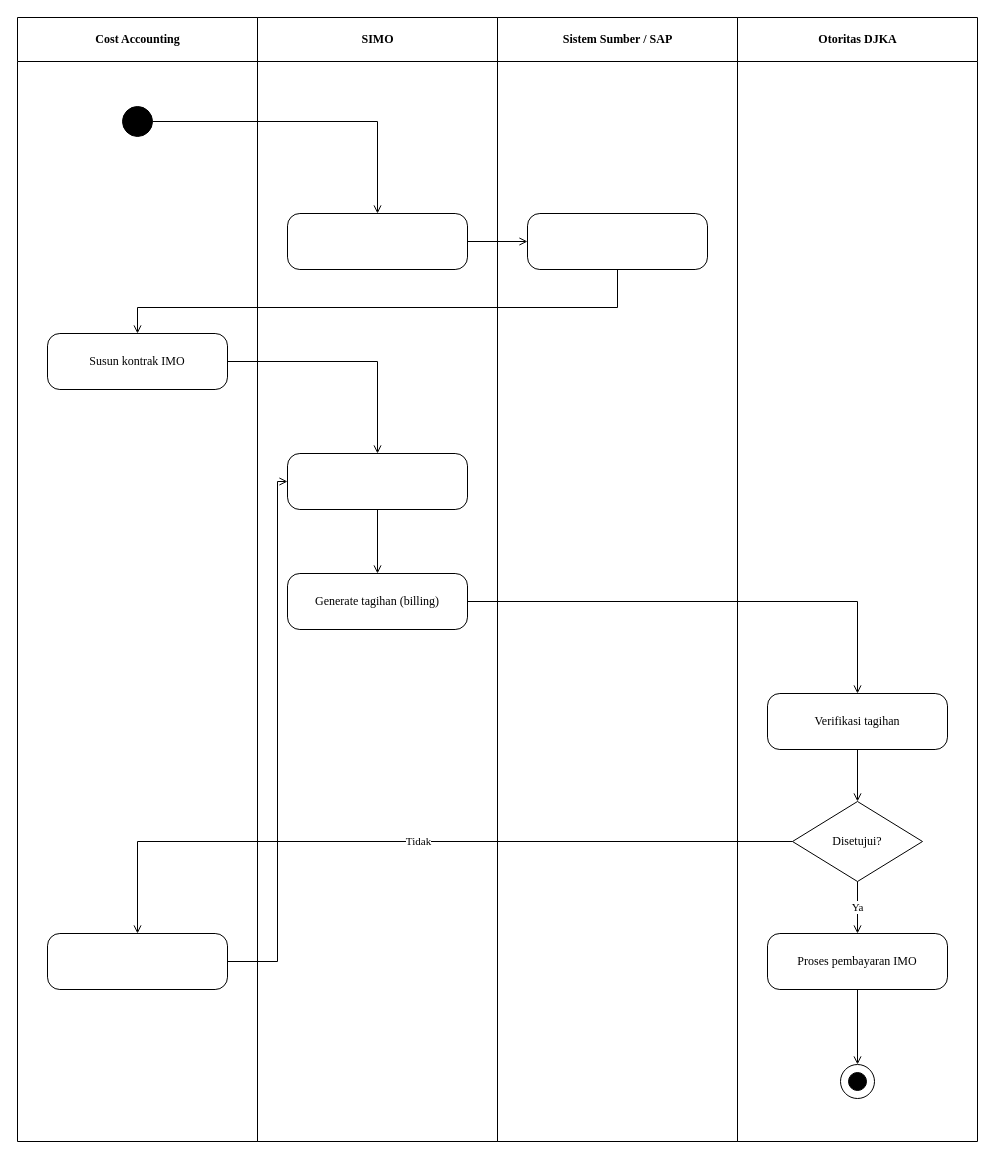
The diagram is 995 pixels wide and 1159 high, and some of its shapes have lost their labels. Here are the shapes that lost their labels. From the top down, the centre of each, then its label:
At point 377,241: "Sinkronisasi 4 sistem sumber".
At point 617,241: "Kirim data SDM terintegrasi".
At point 377,481: "Kalkulasi biaya pemeliharaan".
At point 137,961: "Revisi tagihan".
